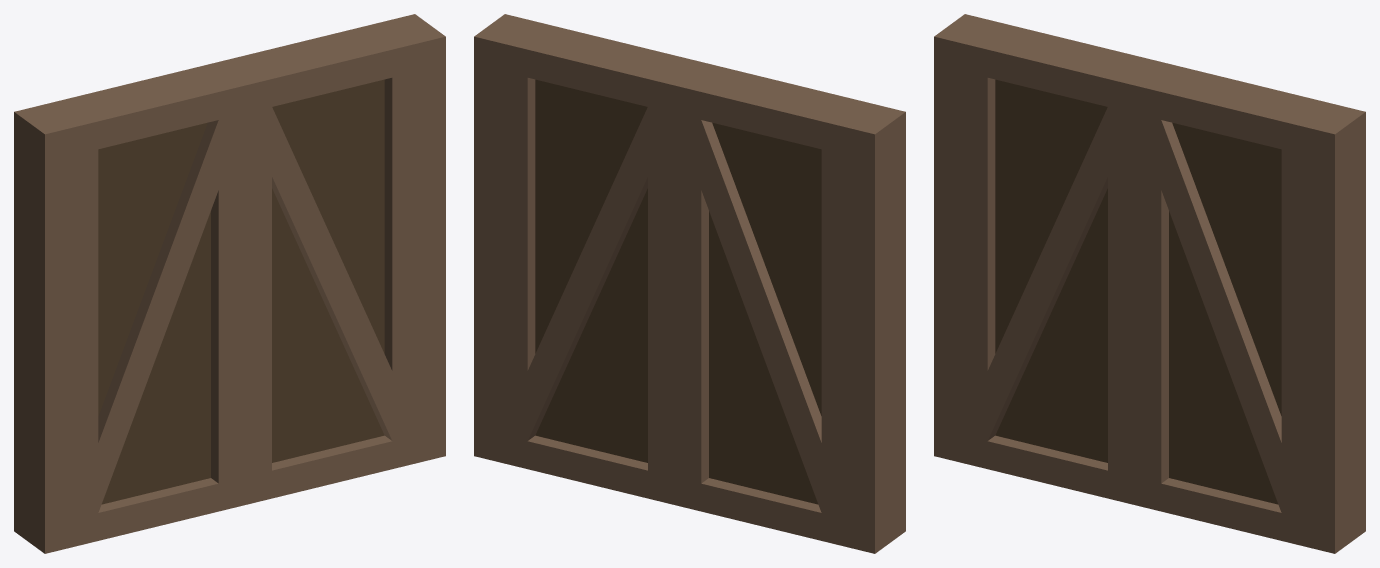
File: enchantedforest_wall_wood_3.fbx
The picture shows the model from 3 angles, left to right: view 1: azimuth 30°, elevation 25°; view 2: azimuth 150°, elevation 25°; view 3: azimuth 330°, elevation 25°; orthographic projection.
Visible parts, largest first — view 1: Cube.022; view 2: Cube.022; view 3: Cube.022.
Part boxes in pixels (x1,y1,x2,y2): Cube.022: [14, 14, 445, 553]; Cube.022: [474, 14, 905, 553]; Cube.022: [934, 14, 1365, 553].
Size of the model in its own units: 3 by 3 by 0.4.
